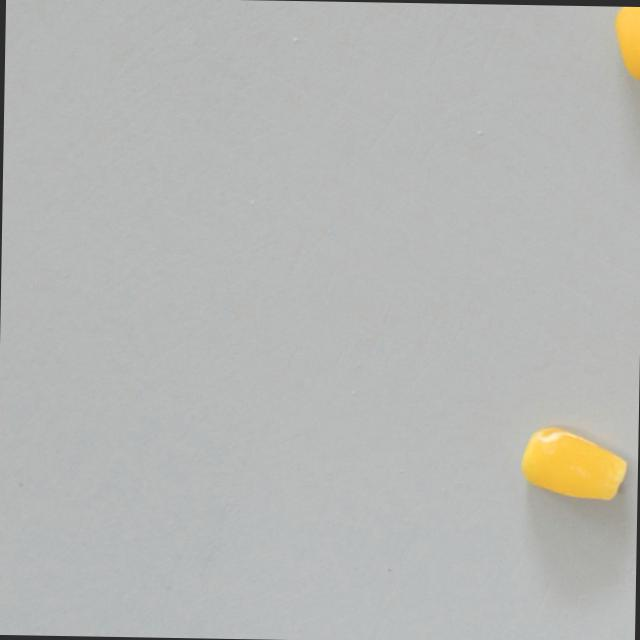estandar: (605, 5, 640, 87)
pelicula: (520, 418, 632, 502)
